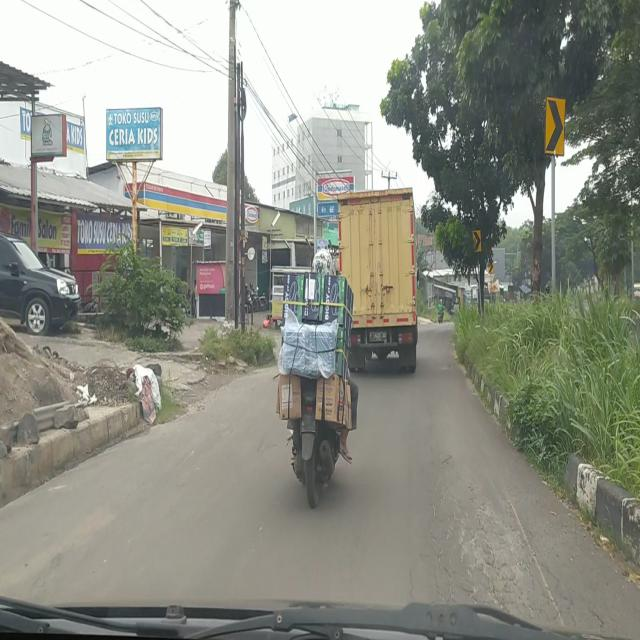Drain Hole: (431, 460, 568, 613)
